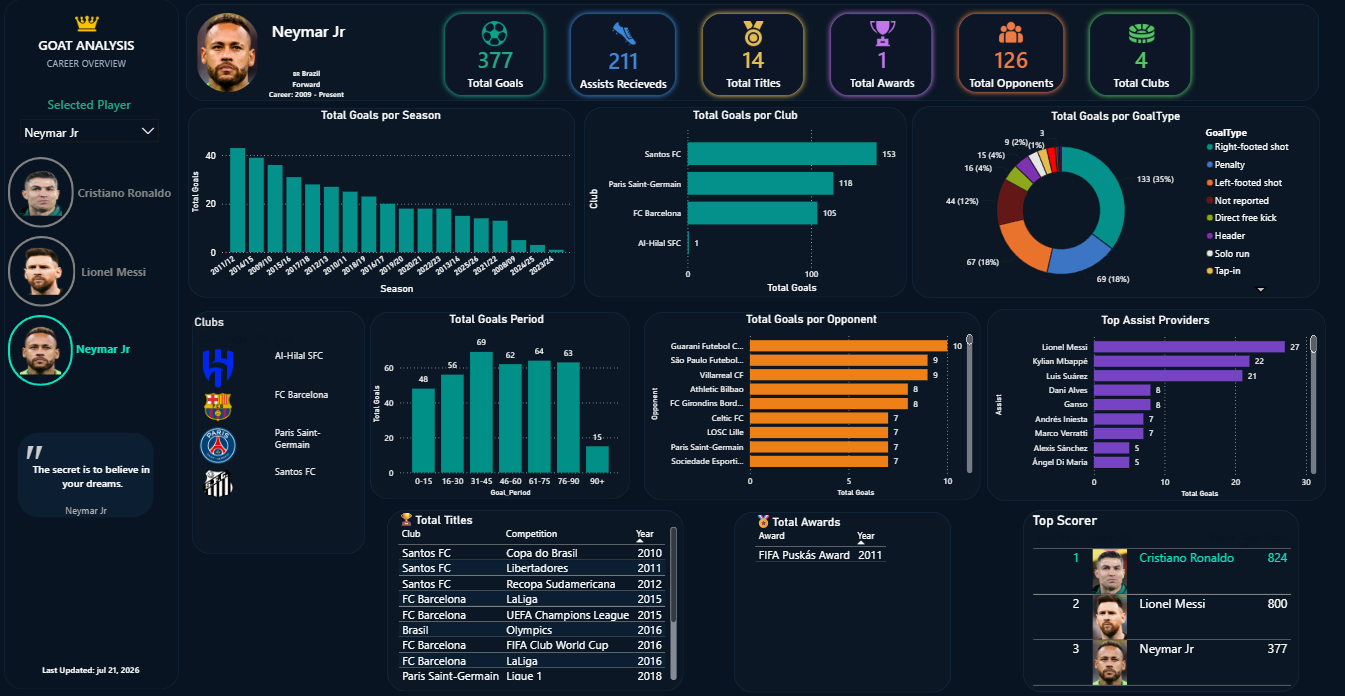

The dashboard page shown, as its layout file describes it:
{"tool":"powerbi","page":{"name":"Goat Analysis","canvas":[1923,1000],"ordinal":1},"visuals":[{"type":"shape","box":[267.1,7.1,1618.6,138.6],"z":0},{"type":"actionButton","box":[104.2,253.4,150,46.2],"z":0,"group":"g26"},{"type":"actionButton","box":[12.5,338.8,96.3,101],"z":0,"group":"g27"},{"type":"actionButton","box":[12.5,451.2,92.6,101.2],"z":0,"group":"g28"},{"type":"shape","box":[7.5,0,250,986.2],"z":1000},{"type":"actionButton","box":[12.3,226.2,93.9,101],"z":1000,"group":"g26"},{"type":"actionButton","box":[110,363.8,107.5,50],"z":1000,"group":"g27"},{"type":"actionButton","box":[104.4,472.1,88.8,53.8],"z":1000,"group":"g28"},{"type":"textbox","title":"GOAT ANALYSIS","box":[0,52.5,250,53],"z":2000,"group":"g13"},{"type":"slicer","title":"Selected Player","fields":{"Values":["Players.Player"]},"box":[20,138.8,217.5,72.5],"z":2000},{"type":"card","fields":{"Values":["Medidas DAX.Last Updated"]},"box":[28.8,947.5,205,27.5],"z":3000},{"type":"image","box":[282,20,90,113],"z":4000},{"type":"card","fields":{"Values":["Medidas DAX.Player Quote"]},"box":[42.2,649,181,65],"z":4000,"group":"g14"},{"type":"group","id":"g1","title":"Grupo 3","box":[616.5,12.5,184.2,133.3],"z":5000},{"type":"group","id":"g2","title":"Grupo 4","box":[800.7,12.5,184,133.3],"z":6000},{"type":"group","id":"g3","title":"Grupo 1","box":[616.5,12.5,184,133],"z":7000,"group":"g1"},{"type":"group","id":"g4","title":"Grupo 5","box":[985.7,12.5,184.2,133.3],"z":7000},{"type":"shape","box":[628.3,12.5,157.7,133],"z":8000,"group":"g3"},{"type":"group","id":"g5","title":"Grupo 2","box":[800.7,12.5,184.7,133],"z":8000,"group":"g2"},{"type":"group","id":"g6","title":"Grupo 6","box":[1169.8,12.5,184.2,133.3],"z":8000},{"type":"group","id":"g7","title":"Grupo 2","box":[985.7,12.5,184,133],"z":9000,"group":"g4"},{"type":"group","id":"g8","title":"Grupo 7","box":[1354,13.2,184.2,133.3],"z":9000},{"type":"cardVisual","title":"Total de Gols","fields":{"Data":["Medidas DAX.Total Goals"]},"box":[616.5,49.5,184,94],"z":9000,"group":"g3"},{"type":"shape","box":[809.8,12.5,165.5,133],"z":10000,"group":"g5"},{"type":"shape","box":[997,12.5,160.1,133],"z":10000,"group":"g7"},{"type":"group","id":"g9","title":"Grupo 2","box":[1169.8,12.5,184,133],"z":10000,"group":"g6"},{"type":"shape","box":[1180.5,12.5,160.3,133],"z":10000,"group":"g9"},{"type":"shape","box":[1363,13.2,166,128.2],"z":10000,"group":"g11"},{"type":"group","id":"g10","title":"Grupo 8","box":[1539.8,13.2,184.2,133.3],"z":10000},{"type":"shape","box":[1550.5,13.2,160.3,133],"z":10000,"group":"g12"},{"type":"group","id":"g11","title":"Grupo 2","box":[1354,13.2,184,133],"z":11000,"group":"g8"},{"type":"textbox","box":[372.5,23.8,138.8,63.8],"z":11000},{"type":"cardVisual","title":"Total de Gols","fields":{"Data":["Medidas DAX.Total Opponents"]},"box":[1354,47.9,184,98.3],"z":11000,"group":"g11"},{"type":"cardVisual","title":"Total de Gols","fields":{"Data":["Medidas DAX.Total Titles"]},"box":[985.7,49.5,184,94],"z":11000,"group":"g7"},{"type":"cardVisual","title":"Total de Gols","fields":{"Data":["Medidas DAX.Total Awards"]},"box":[1169.8,49.5,184,94],"z":11000,"group":"g9"},{"type":"cardVisual","title":"Total de Gols","fields":{"Data":["Medidas DAX.Total Clubs"]},"box":[1539.8,50.2,184,94],"z":11000,"group":"g12"},{"type":"cardVisual","title":"Total de Gols","fields":{"Data":["Medidas DAX.Total Assists"]},"box":[800.7,51.5,184.7,94],"z":11000,"group":"g5"},{"type":"shape","box":[26.2,619,196.2,122.5],"z":11500,"group":"g25"},{"type":"group","id":"g12","title":"Grupo 2","box":[1539.8,13.2,184,133],"z":12000,"group":"g10"},{"type":"group","id":"g13","title":"Grupo 10","box":[0,17.5,250,87.5],"z":12000},{"type":"group","id":"g14","title":"Grupo 9","box":[28,619.7,195.2,122.9],"z":12000,"group":"g25"},{"type":"image","box":[105,17.5,40,36],"z":13000,"group":"g13"},{"type":"image","box":[682,30.5,50.4,36],"z":13000,"group":"g1"},{"type":"group","id":"g15","title":"Grupo 11","box":[269,155,554,271],"z":13000},{"type":"image","box":[873.4,30.5,40.4,36],"z":13001,"group":"g2"},{"type":"textbox","title":"\"","box":[28,619.7,194.3,122.9],"z":13001,"group":"g14"},{"type":"image","box":[1052.5,30.5,50.4,36],"z":13002,"group":"g4"},{"type":"image","box":[1238.7,30.5,47.5,36],"z":13003,"group":"g6"},{"type":"image","box":[1426,30.5,40,34.7],"z":13004,"group":"g8"},{"type":"image","box":[1608.7,31.2,47.5,36],"z":13005,"group":"g10"},{"type":"shape","box":[835,154,461,272],"z":13500,"group":"g16"},{"type":"shape","box":[270,155,553,271],"z":13500,"group":"g15"},{"type":"group","id":"g16","title":"Grupo 12","box":[835,154,461,272],"z":14000},{"type":"columnChart","fields":{"Category":["Goals_Raw.Season"],"Y":["Medidas DAX.Total Goals"]},"box":[269,155,554,271],"z":14000,"group":"g15"},{"type":"barChart","fields":{"Category":["Goals_Raw.Club"],"Y":["Medidas DAX.Total Goals"]},"box":[835,155.4,461,269.1],"z":14000,"group":"g16"},{"type":"group","id":"g17","title":"Grupo 13","box":[1304.3,152.9,582.9,274.3],"z":15000},{"type":"shape","box":[1304.3,152.9,582.9,274.3],"z":15500,"group":"g17"},{"type":"donutChart","fields":{"Category":["Goals_Type.GoalType"],"Y":["Medidas DAX.Total Goals"]},"box":[1306.2,156.6,579.4,270.6],"z":16000,"group":"g17"},{"type":"group","id":"g18","title":"Grupo 14","box":[528.8,447.5,372.5,268.8],"z":16000},{"type":"shape","box":[274.4,446,247.3,347.3],"z":16500,"group":"g23"},{"type":"group","id":"g19","title":"Grupo 15","box":[921.2,447.5,481.2,268.8],"z":17000},{"type":"tableEx","title":"Clubs","fields":{"Values":["Clubs.Club_Image_URL","Goals_Raw.Club"]},"box":[273.6,451.8,248.2,342.7],"z":17000,"group":"g23"},{"type":"shape","box":[529.7,447.5,371.3,267.3],"z":17500,"group":"g18"},{"type":"shape","box":[921.2,447.5,480.9,269.1],"z":17503,"group":"g19"},{"type":"shape","box":[1412.2,451.4,483.8,266.2],"z":17503,"group":"g24"},{"type":"columnChart","title":"Total Goals Period","fields":{"Category":["Goals_Raw.Goal_Period"],"Y":["Medidas DAX.Total Goals"]},"box":[528.8,447.7,364.8,268.4],"z":18000,"group":"g18"},{"type":"group","id":"g20","title":"Grupo 16","box":[554.7,730,423.6,259.1],"z":18000},{"type":"clusteredBarChart","fields":{"Category":["Goals_Raw.Opponent"],"Y":["Medidas DAX.Total Goals"]},"box":[926.1,447.7,470,268.2],"z":18003,"group":"g19"},{"type":"clusteredBarChart","title":"Top Assist Providers","fields":{"Category":["Goals_Raw.Assist"],"Y":["Medidas DAX.Total Goals"]},"box":[1417.4,448.6,470,268.1],"z":18003,"group":"g24"},{"type":"group","id":"g21","title":"Grupo 17","box":[1050.4,732.9,333.4,258.3],"z":19000},{"type":"shape","box":[554.7,730,423.6,259.1],"z":19500,"group":"g20"},{"type":"tableEx","title":"🏆Total Titles","fields":{"Values":["Titles.Club","Titles.Competition","Titles.Year"]},"box":[564.8,730,409.1,247.6],"z":20000,"group":"g20"},{"type":"group","id":"g22","title":"Grupo 17","box":[1463.5,730,402.5,260],"z":20000},{"type":"shape","box":[1463.5,730,394.6,260],"z":20500,"group":"g22"},{"type":"shape","box":[1050.4,733.4,310.2,257.8],"z":20500,"group":"g21"},{"type":"group","id":"g23","title":"Grupo 18","box":[273.6,446,248.2,348.5],"z":21000},{"type":"group","id":"g24","title":"Grupo 15","box":[1412.2,448.6,483.8,268.9],"z":22000},{"type":"tableEx","title":"   Top Scorer","fields":{"Values":["Medidas DAX.Goal Rank","Players.Image_URL","Players.Player","Medidas DAX.Total Goals"]},"box":[1471.5,732.5,394.5,256.4],"z":22000,"group":"g22"},{"type":"tableEx","title":"🏅Total Awards","fields":{"Values":["Awards.Award","Awards.Year"]},"box":[1075.2,732.9,308.7,246.5],"z":22000,"group":"g21"},{"type":"group","id":"g25","title":"Grupo 19","box":[26.2,619,197.5,122.5],"z":23000},{"type":"group","id":"g26","title":"Grupo 1","box":[12.3,226.2,241.9,101],"z":24000},{"type":"group","id":"g27","title":"Grupo 2","box":[12.5,338.8,205,101],"z":25000},{"type":"group","id":"g28","title":"Grupo 3","box":[12.5,451.2,181.2,101.2],"z":26000}]}

Visuals, with their boxes in screenshot pixels (x1, y1, x2, y2), scaled from the page's 1923x1000 canvas onto the 1345x696 screenshot:
shape: bbox(187, 5, 1319, 101)
actionButton: bbox(73, 176, 178, 209)
actionButton: bbox(9, 236, 76, 306)
actionButton: bbox(9, 314, 74, 384)
shape: bbox(5, 0, 180, 686)
actionButton: bbox(9, 157, 74, 228)
actionButton: bbox(77, 253, 152, 288)
actionButton: bbox(73, 329, 135, 366)
"GOAT ANALYSIS" textbox: bbox(0, 37, 175, 73)
"Selected Player" slicer: bbox(14, 97, 166, 147)
card - Medidas DAX.Last Updated: bbox(20, 659, 164, 679)
image: bbox(197, 14, 260, 93)
card - Medidas DAX.Player Quote: bbox(30, 452, 156, 497)
"Grupo 3" group: bbox(431, 9, 560, 101)
"Grupo 4" group: bbox(560, 9, 689, 101)
"Grupo 1" group: bbox(431, 9, 560, 101)
"Grupo 5" group: bbox(689, 9, 818, 101)
shape: bbox(439, 9, 550, 101)
"Grupo 2" group: bbox(560, 9, 689, 101)
"Grupo 6" group: bbox(818, 9, 947, 101)
"Grupo 2" group: bbox(689, 9, 818, 101)
"Grupo 7" group: bbox(947, 9, 1076, 102)
"Total de Gols" cardVisual: bbox(431, 34, 560, 100)
shape: bbox(566, 9, 682, 101)
shape: bbox(697, 9, 809, 101)
"Grupo 2" group: bbox(818, 9, 947, 101)
shape: bbox(826, 9, 938, 101)
shape: bbox(953, 9, 1069, 98)
"Grupo 8" group: bbox(1077, 9, 1206, 102)
shape: bbox(1084, 9, 1197, 102)
"Grupo 2" group: bbox(947, 9, 1076, 102)
textbox: bbox(261, 17, 358, 61)
"Total de Gols" cardVisual: bbox(947, 33, 1076, 102)
"Total de Gols" cardVisual: bbox(689, 34, 818, 100)
"Total de Gols" cardVisual: bbox(818, 34, 947, 100)
"Total de Gols" cardVisual: bbox(1077, 35, 1206, 100)
"Total de Gols" cardVisual: bbox(560, 36, 689, 101)
shape: bbox(18, 431, 156, 516)
"Grupo 2" group: bbox(1077, 9, 1206, 102)
"Grupo 10" group: bbox(0, 12, 175, 73)
"Grupo 9" group: bbox(20, 431, 156, 517)
image: bbox(73, 12, 101, 37)
image: bbox(477, 21, 512, 46)
"Grupo 11" group: bbox(188, 108, 576, 296)
image: bbox(611, 21, 639, 46)
""" textbox: bbox(20, 431, 155, 517)
image: bbox(736, 21, 771, 46)
image: bbox(866, 21, 900, 46)
image: bbox(997, 21, 1025, 45)
image: bbox(1125, 22, 1158, 47)
shape: bbox(584, 107, 906, 296)
shape: bbox(189, 108, 576, 296)
"Grupo 12" group: bbox(584, 107, 906, 296)
columnChart - Goals_Raw.Season x Medidas DAX.Total Goals: bbox(188, 108, 576, 296)
barChart - Goals_Raw.Club x Medidas DAX.Total Goals: bbox(584, 108, 906, 295)
"Grupo 13" group: bbox(912, 106, 1320, 297)
shape: bbox(912, 106, 1320, 297)
donutChart - Goals_Type.GoalType x Medidas DAX.Total Goals: bbox(914, 109, 1319, 297)
"Grupo 14" group: bbox(370, 311, 630, 499)
shape: bbox(192, 310, 365, 552)
"Grupo 15" group: bbox(644, 311, 981, 499)
"Clubs" tableEx: bbox(191, 314, 365, 553)
shape: bbox(370, 311, 630, 498)
shape: bbox(644, 311, 981, 499)
shape: bbox(988, 314, 1326, 499)
"Total Goals Period" columnChart: bbox(370, 312, 625, 498)
"Grupo 16" group: bbox(388, 508, 684, 688)
clusteredBarChart - Goals_Raw.Opponent x Medidas DAX.Total Goals: bbox(648, 312, 976, 498)
"Top Assist Providers" clusteredBarChart: bbox(991, 312, 1320, 499)
"Grupo 17" group: bbox(735, 510, 968, 690)
shape: bbox(388, 508, 684, 688)
"🏆Total Titles" tableEx: bbox(395, 508, 681, 680)
"Grupo 17" group: bbox(1024, 508, 1305, 689)
shape: bbox(1024, 508, 1300, 689)
shape: bbox(735, 510, 952, 690)
"Grupo 18" group: bbox(191, 310, 365, 553)
"Grupo 15" group: bbox(988, 312, 1326, 499)
"   Top Scorer" tableEx: bbox(1029, 510, 1305, 688)
"🏅Total Awards" tableEx: bbox(752, 510, 968, 682)
"Grupo 19" group: bbox(18, 431, 156, 516)
"Grupo 1" group: bbox(9, 157, 178, 228)
"Grupo 2" group: bbox(9, 236, 152, 306)
"Grupo 3" group: bbox(9, 314, 135, 384)
